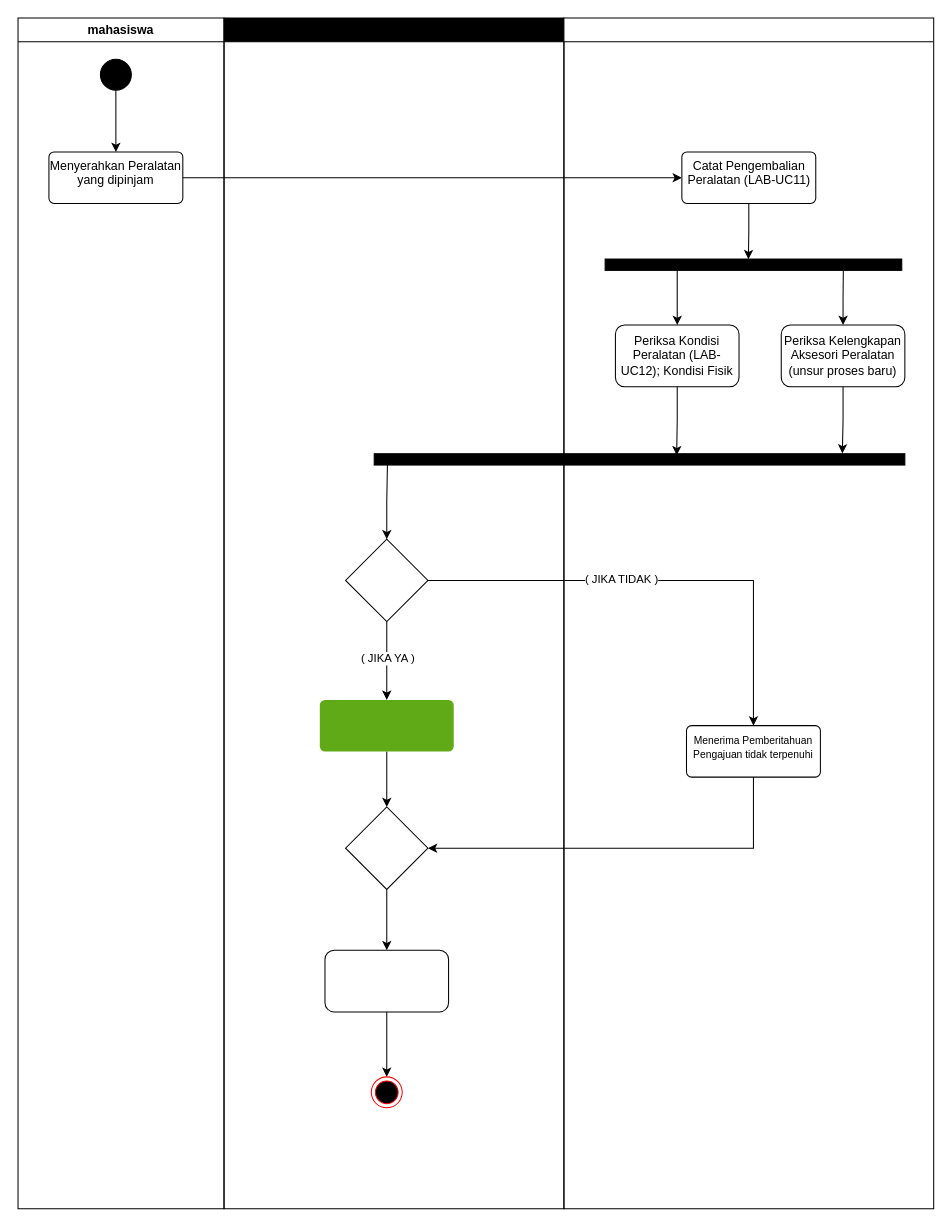
The diagram is 952 pixels wide and 1227 high, and some of its shapes have lost their labels. The box of each missing label's shape, as (x1, y1, x2, y2) in pixels:
kondisi peralatan baik dan lengkap ?: (345, 538, 428, 622)
Memproses Keputusan peminjaman: (319, 699, 453, 751)
Menutup transaksi Peminjaman: (324, 949, 449, 1012)
Petugas Laboratorium: (563, 17, 934, 1209)
